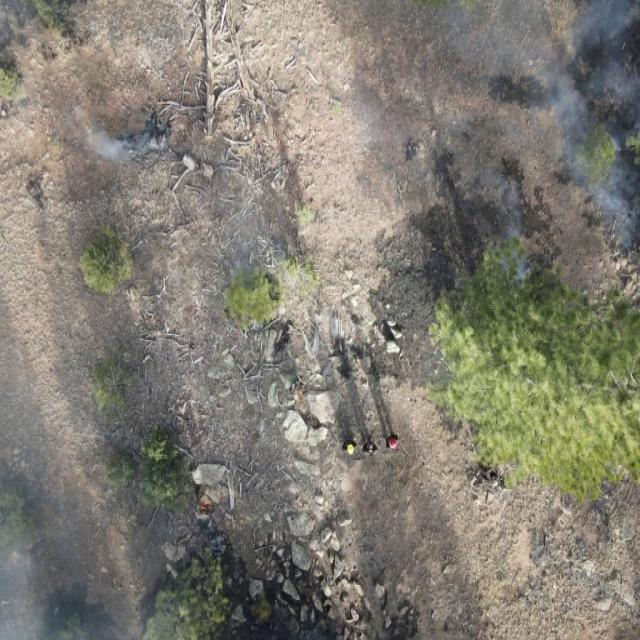fire: (0, 391, 142, 640), (154, 171, 278, 387), (196, 501, 210, 517), (334, 337, 346, 347), (158, 134, 162, 138)
smoke: (413, 0, 640, 292), (0, 0, 172, 184)
